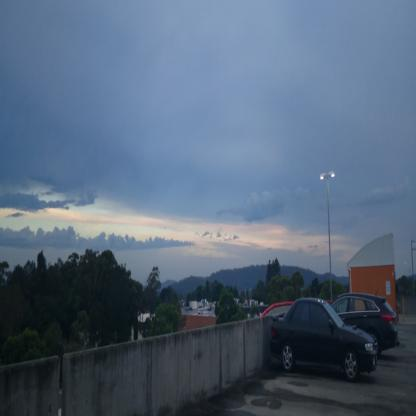Car: (325, 294, 400, 358)
